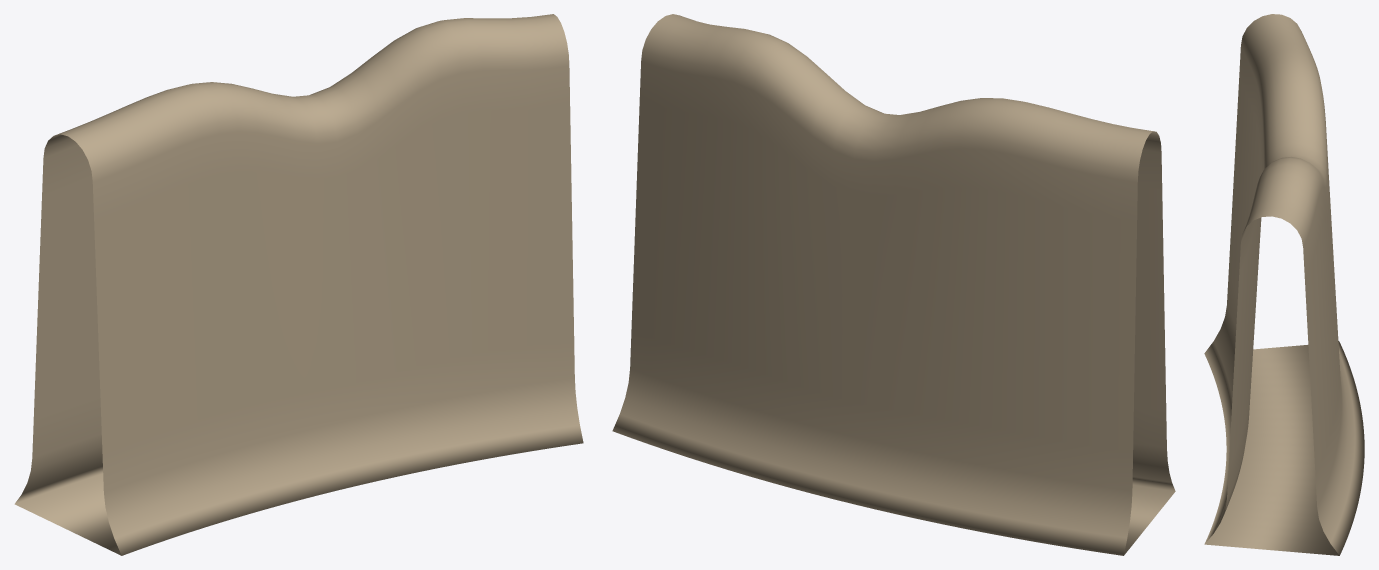
The model's file is KFB_Wall_curved_ring_r3.r3.glb.
3 renders of one model, left to right at view 1: azimuth 30°, elevation 25°; view 2: azimuth 150°, elevation 25°; view 3: azimuth 270°, elevation 25°, orthographic. The views are drawn at different scales.
Parts seen in each view (by area): view 1: KFB_Wall_curved_ring_r3; view 2: KFB_Wall_curved_ring_r3; view 3: KFB_Wall_curved_ring_r3.
Boxes of the visible parts, left/top/right/bottom form: KFB_Wall_curved_ring_r3: left=14, top=14, right=583, bottom=555; KFB_Wall_curved_ring_r3: left=612, top=14, right=1175, bottom=555; KFB_Wall_curved_ring_r3: left=1204, top=14, right=1364, bottom=555.
Bounding box in the file's own units: 4.95 × 3.71 × 1.57.
